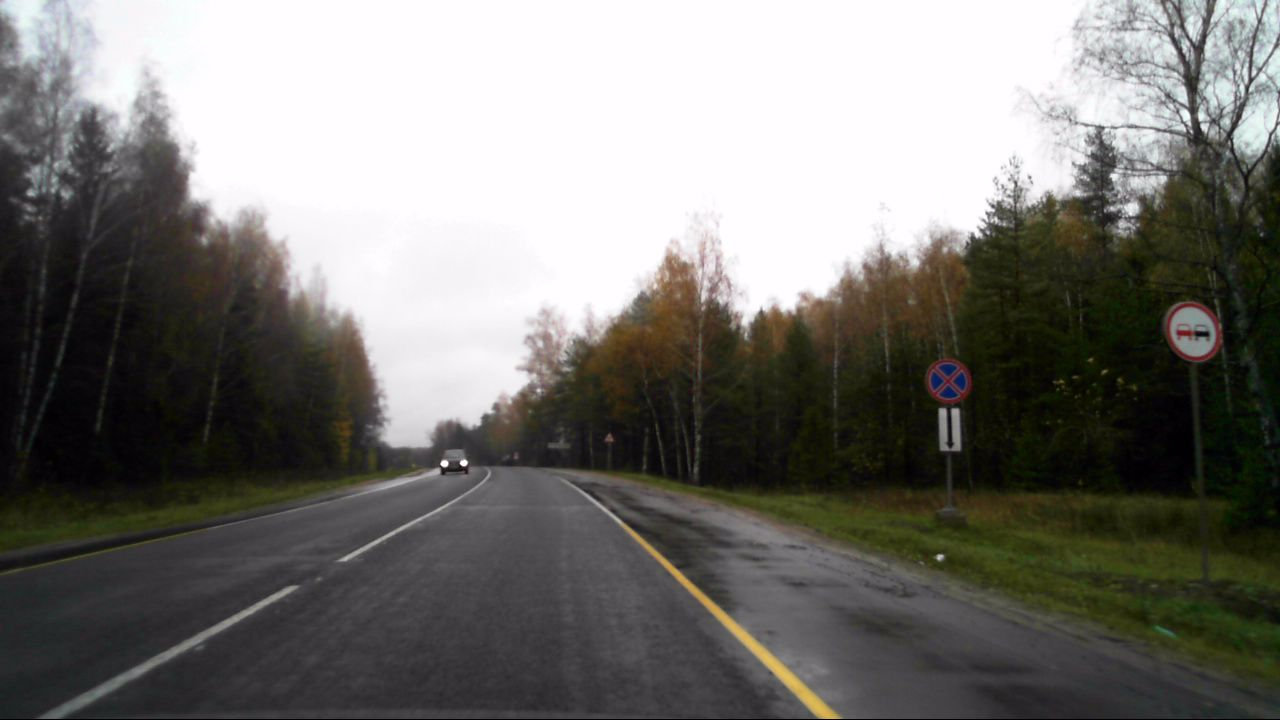No Parking: (921, 355, 971, 405)
